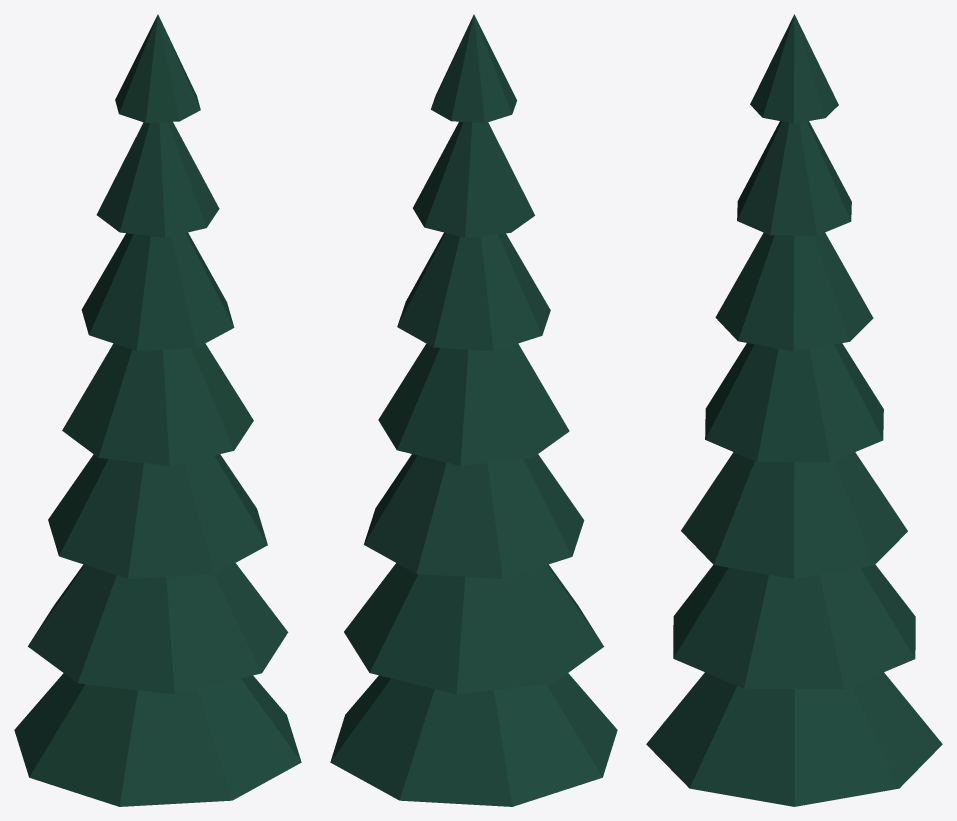
The model's file is pine_tall.fbx.
3 renders of one model, left to right at view 1: azimuth 30°, elevation 25°; view 2: azimuth 150°, elevation 25°; view 3: azimuth 270°, elevation 25°, orthographic.
Visible parts, largest first — view 1: PineTall; view 2: PineTall; view 3: PineTall.
Boxes of the visible parts, bbox=[...] form: PineTall: bbox=[14, 14, 301, 806]; PineTall: bbox=[330, 14, 617, 806]; PineTall: bbox=[646, 14, 942, 806].
Bounding box in the file's own units: 2.7 × 7.33 × 2.7.
